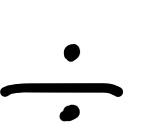div: (0, 44, 123, 121)
